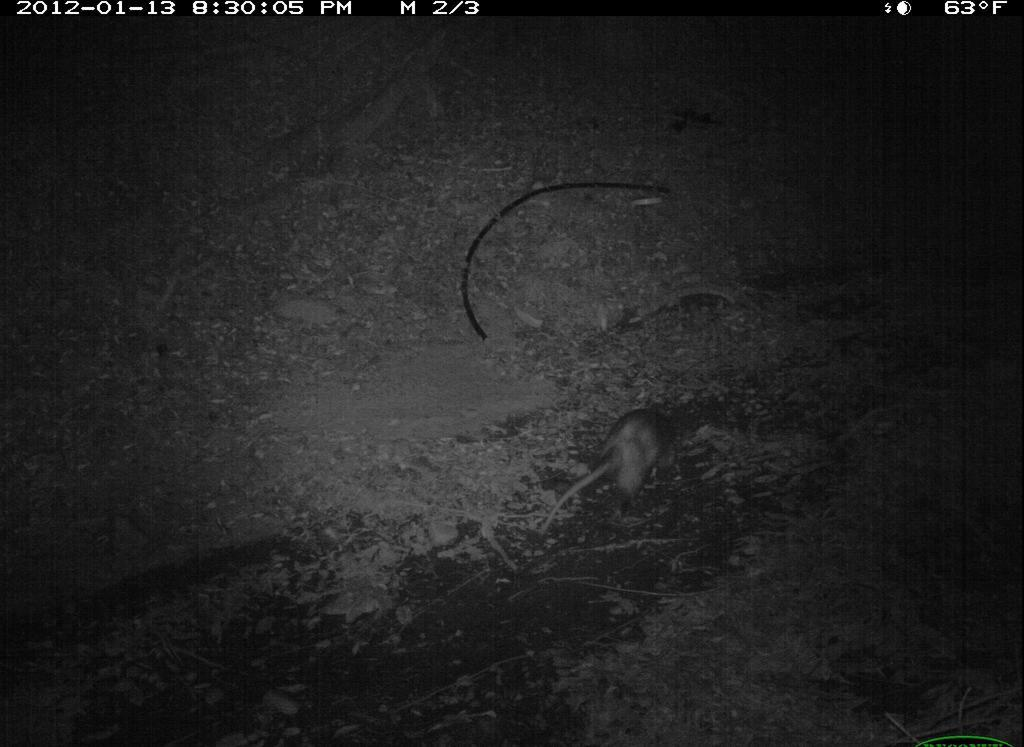opossum: (535, 393, 694, 537)
